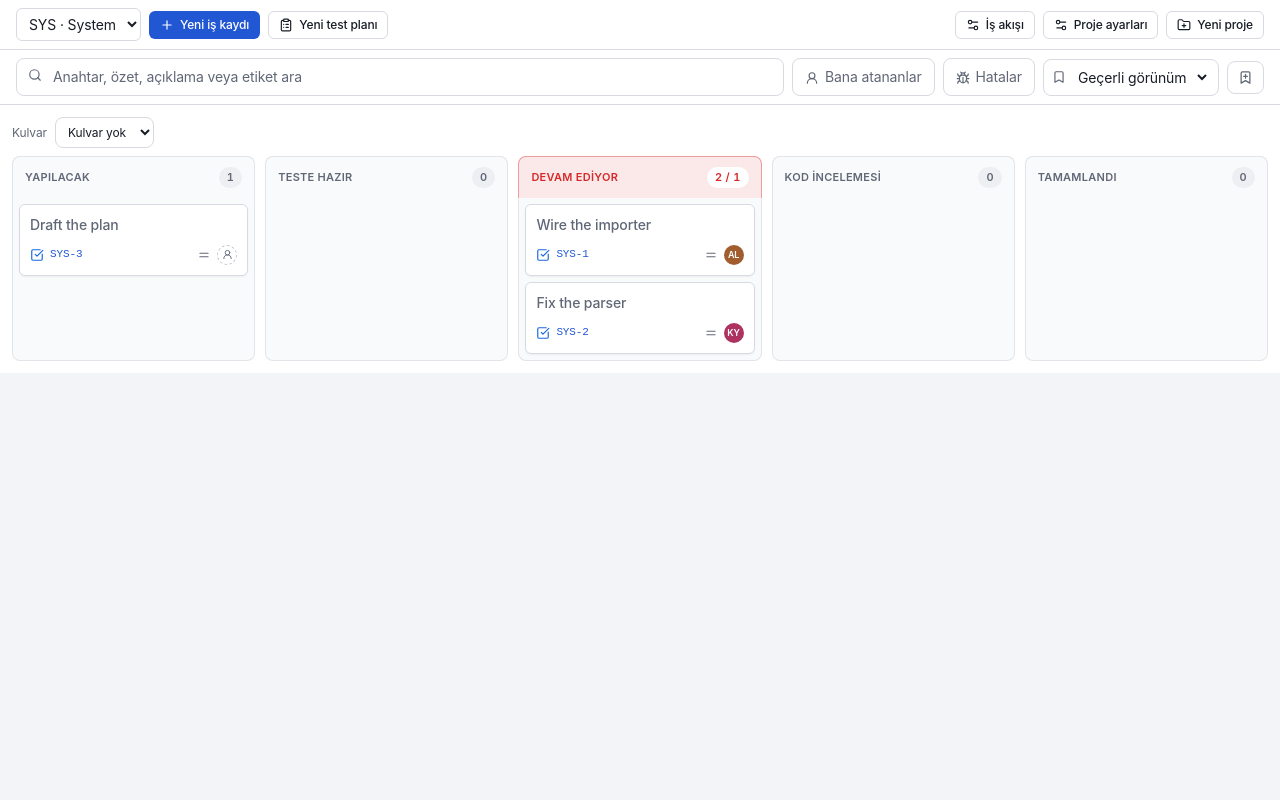
Scenario: WorkManagementPage projects › groups the board into swimlanes and flags a column over its WIP limit
Check: the header with test id "board-column-in_progress" shows "2 / 1", box [715,170,741,184]
Check: the element with test id "board-cell-all-in_progress" shows "SYS-1", box [556,248,589,260]
Step 1. Select "Atanan kişi" in the dropdown with test id "board-swimlane" → (104, 132), box [55,117,154,148]
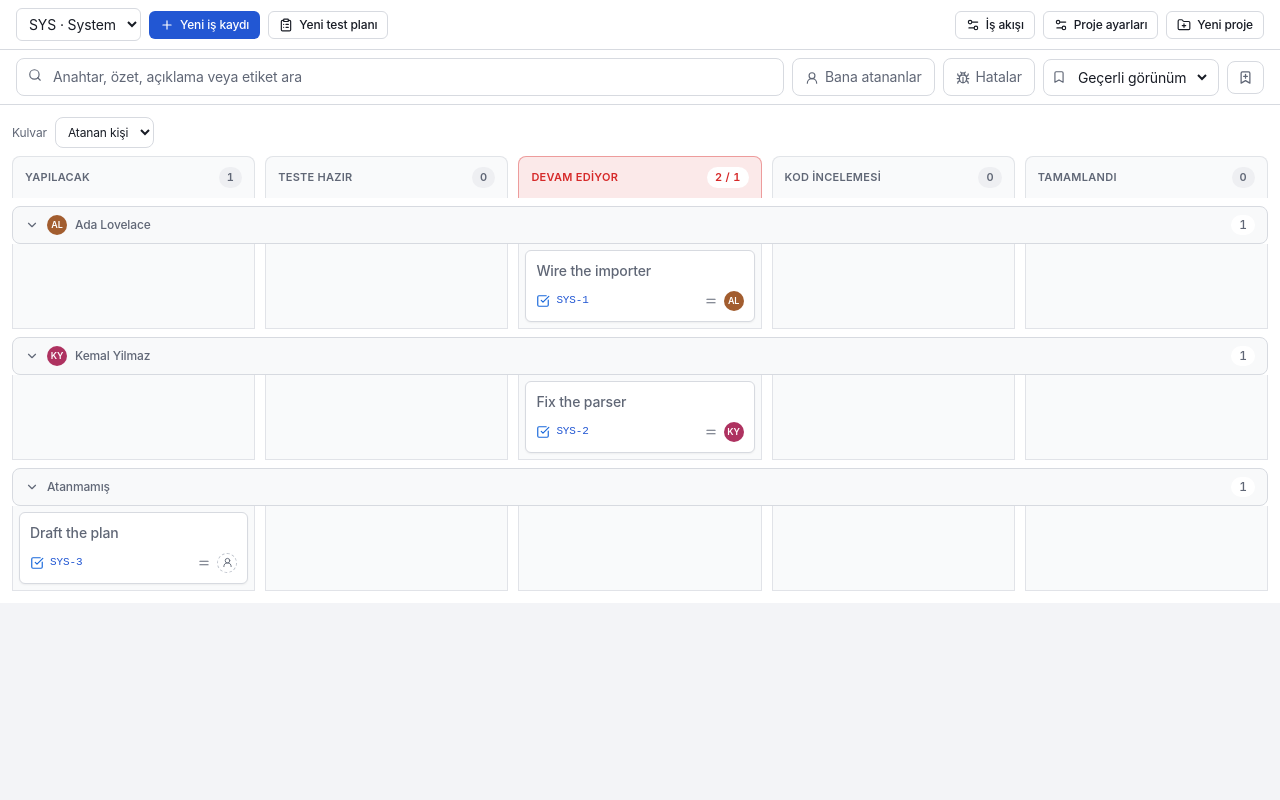
Check: the element with test id "board-cell-ada-in_progress" shows "SYS-1", box [556,294,589,306]
Check: the element with test id "board-lane-ada" shows "Ada Lovelace"
Check: the element with test id "board-lane-unassigned" shows "Atanmamış", box [12,468,1268,506]
Step 2. Click the button "AL Ada Lovelace 1" → (113, 224), box [12,206,1268,244]
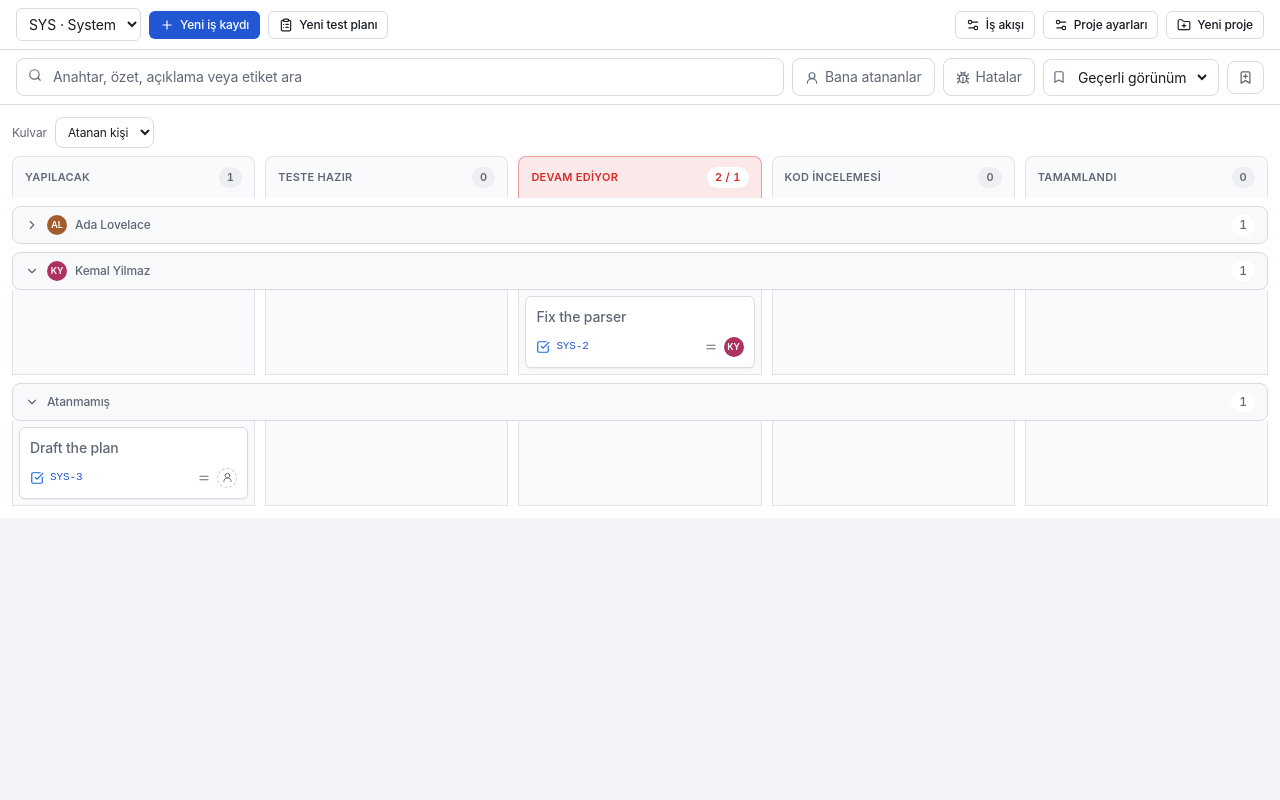
Check: the element with test id "board-cell-kemal-in_progress" is shown, box [518,290,762,374]
Check: the element with test id "board-cell-ada-in_progress" is gone
